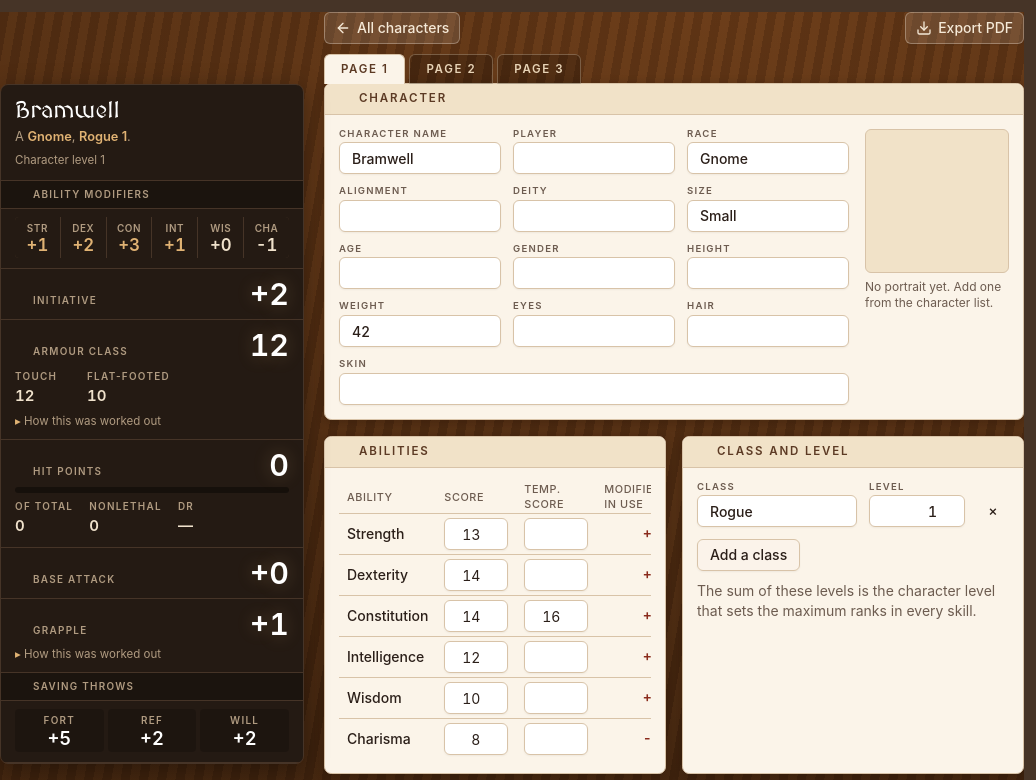
it: the two pages › carries the draft onto page three, and the rail with it
This screenshot has width=1036, height=780.
Click the tab "Page 3".
click(539, 69)  # box [497,54,581,84]
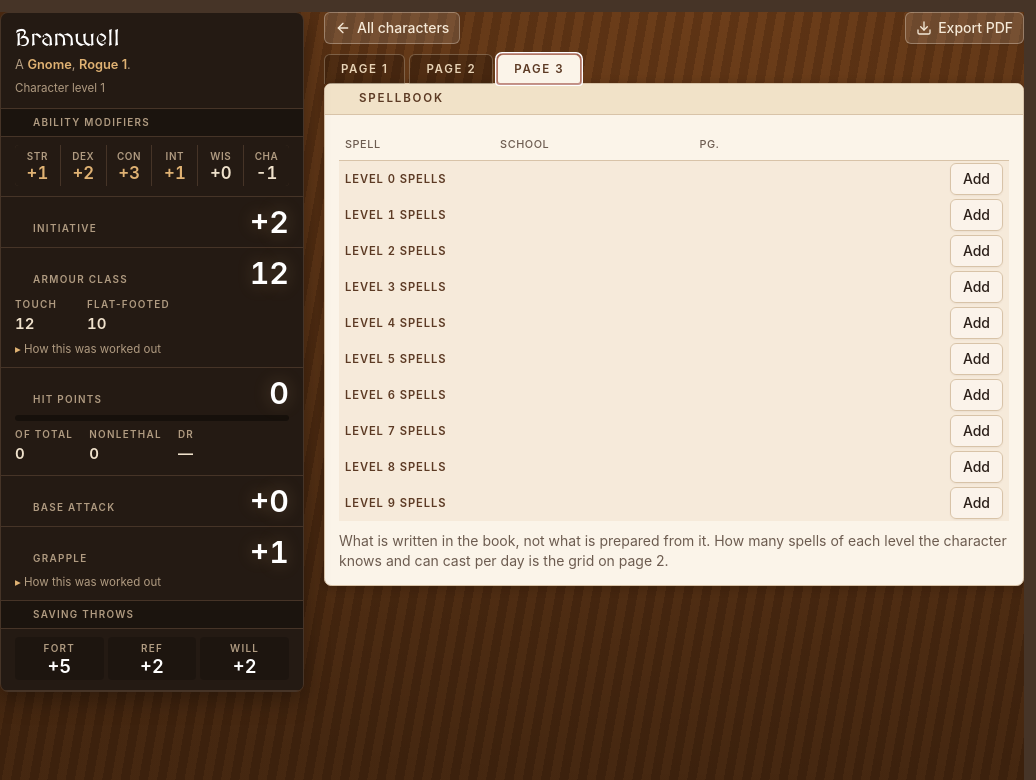
Expected: the text named "Armour class" is shown, [250,258,289,289]
Expected: the column heading "Level 0 spells" is shown, [339,161,797,197]
Expected: the column heading "Level 9 spells" is shown, [339,485,797,521]
